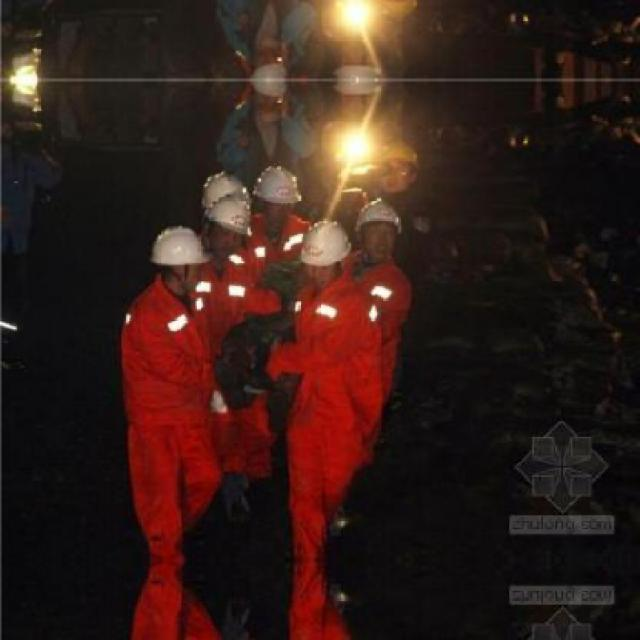Reflective-Jacket: (275, 264, 420, 453), (110, 286, 228, 442), (195, 243, 280, 352), (0, 43, 57, 157), (241, 217, 317, 301)
Safety-Helmet: (191, 169, 255, 240), (140, 218, 214, 277), (294, 214, 357, 274), (246, 162, 309, 212), (349, 192, 414, 238), (240, 57, 295, 109)
